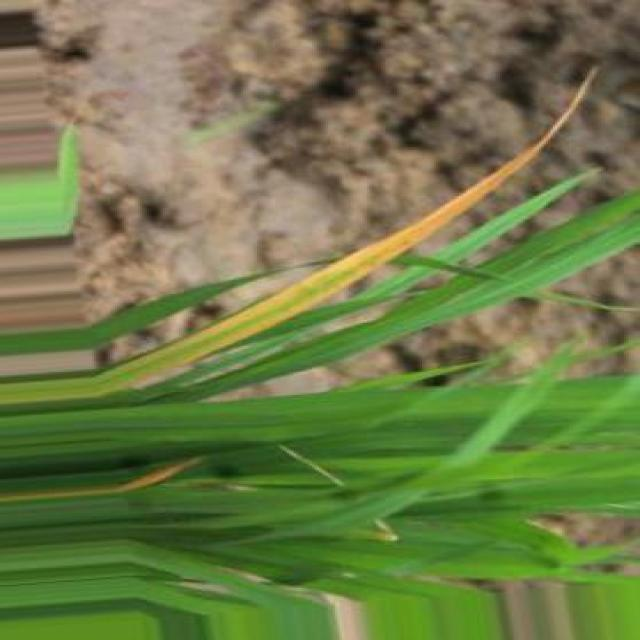Rice Tungro: (101, 66, 595, 388)
